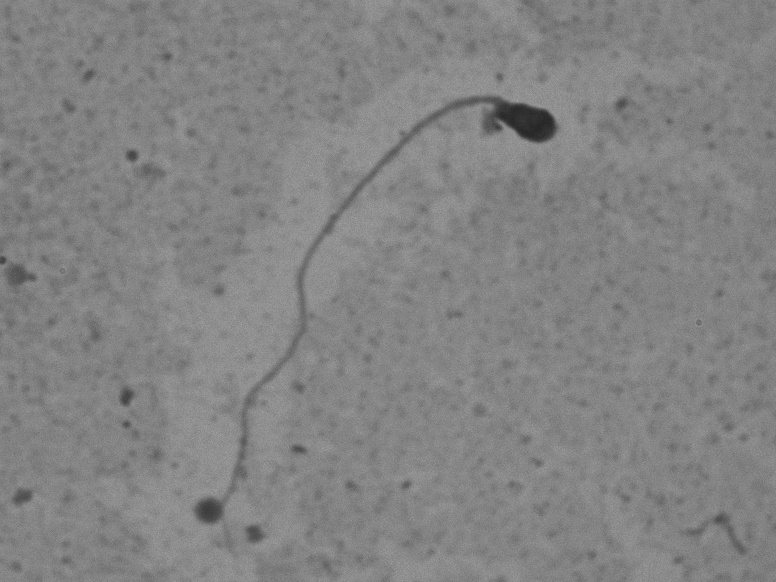Abnormal: (178, 59, 588, 482)
